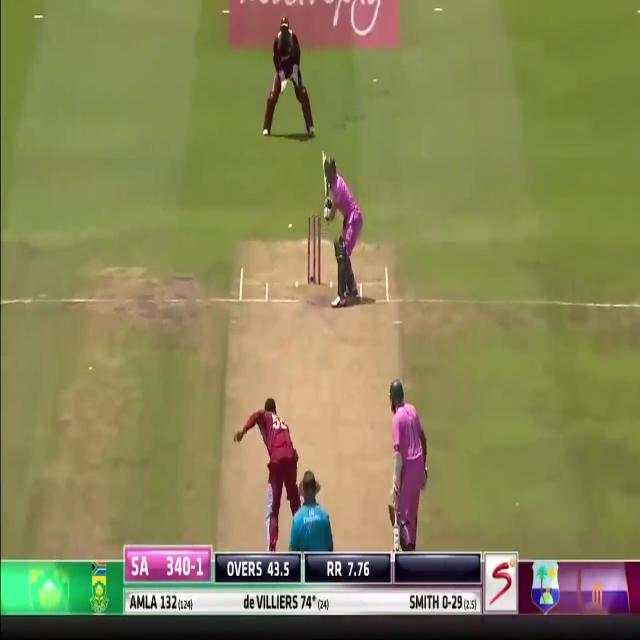Ball: (389, 380, 428, 550), (329, 154, 363, 308)
Fielder: (260, 396, 303, 548), (264, 16, 311, 138)
Umpire: (291, 469, 333, 606)
